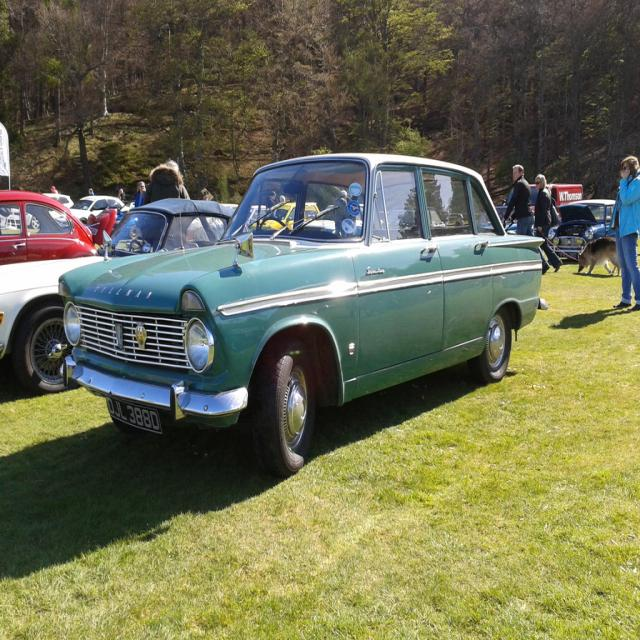car: (31, 157, 551, 473)
